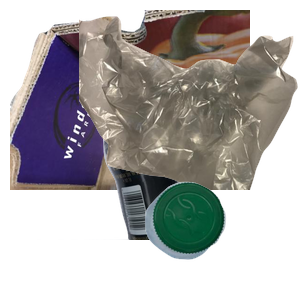cardboard: (10, 10, 250, 190)
glass: (37, 120, 231, 300)
plastic: (142, 179, 300, 300)
trash: (79, 14, 300, 194)
